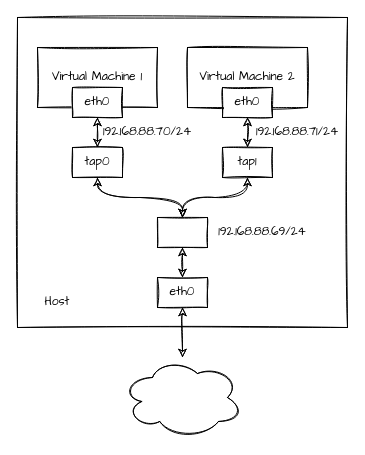
This 365x455 diagram has some shape labels left out. The box of each missing label's shape, as (x1, y1, x2, y2) in pixels:
br0: (156, 216, 208, 248)
internet: (122, 356, 242, 438)
